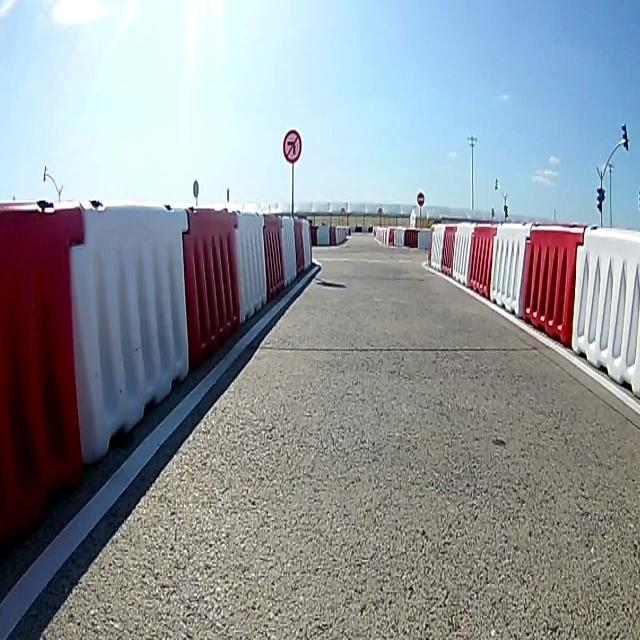girisyok: (416, 191, 425, 208)
soladonulmez: (282, 129, 302, 163)
